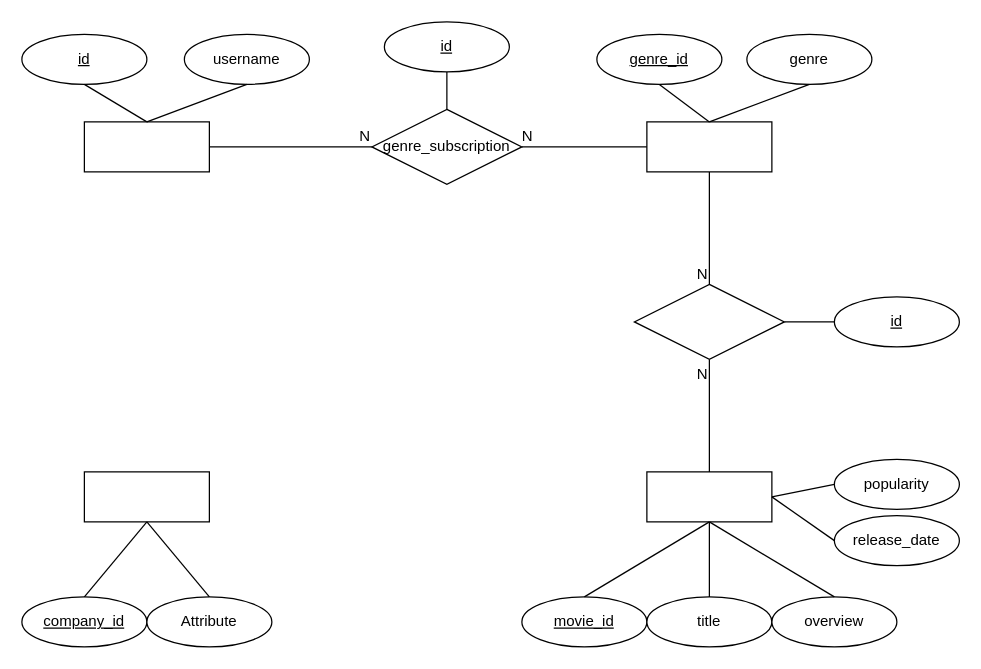
Some shapes in this 981 by 669 pixel diagram are drawn without their labels. Each missing label, with the centre of its shape:
"company" belongs at point (146, 496).
"genres" belongs at point (709, 146).
"member" belongs at point (146, 146).
"movie" belongs at point (709, 496).
"movie_genres" belongs at point (708, 321).
